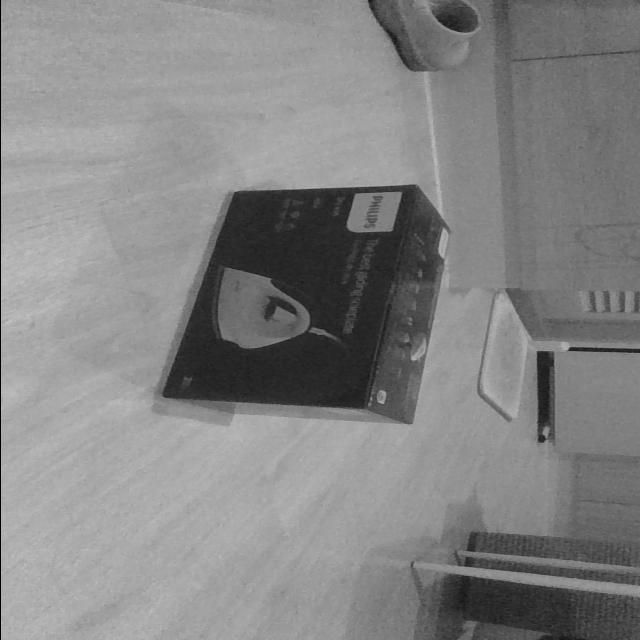IRON: (154, 182, 456, 426)
